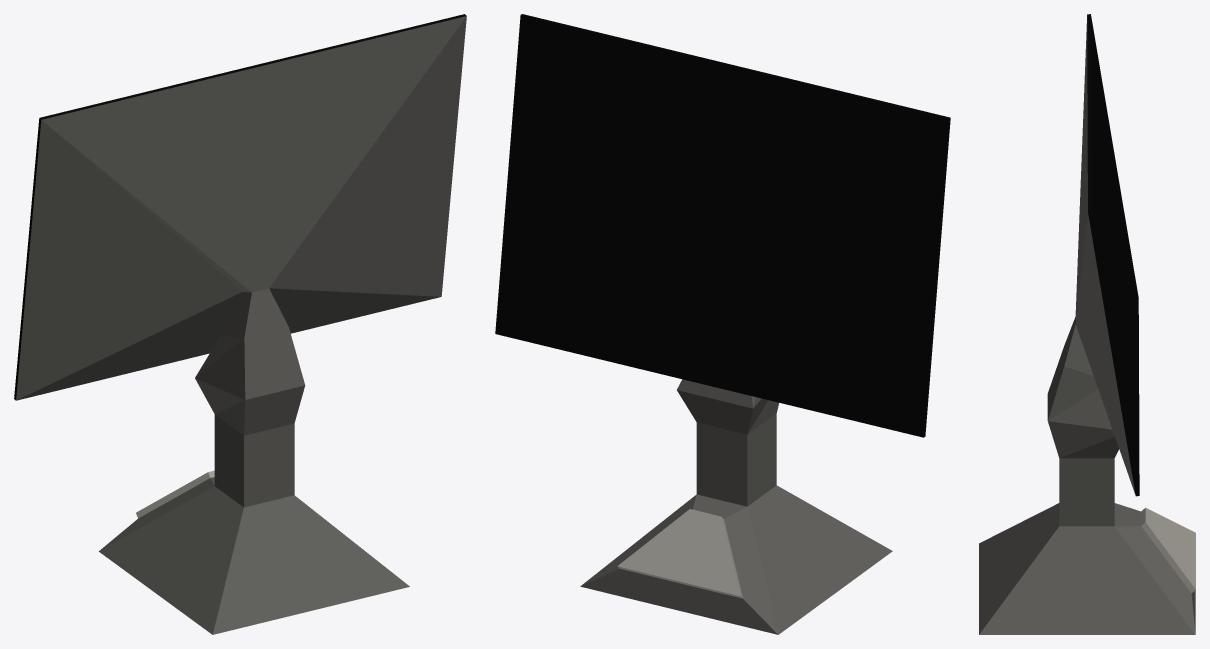
Rendered from Monitor.fbx.
3 views of the same model, side by side, from view 1: azimuth 30°, elevation 25°; view 2: azimuth 150°, elevation 25°; view 3: azimuth 270°, elevation 25° (orthographic). The views are drawn at different scales.
Visible parts, largest first — view 1: pasted__pCube17; view 2: pasted__pCube17; view 3: pasted__pCube17.
Part boxes in pixels (left/top/right/bottom): pasted__pCube17: left=14, top=14, right=466, bottom=634; pasted__pCube17: left=495, top=14, right=950, bottom=634; pasted__pCube17: left=979, top=14, right=1195, bottom=634.
Size of the model in its own units: 663 by 746 by 308.
Materials: 1 (1 with a texture image).
